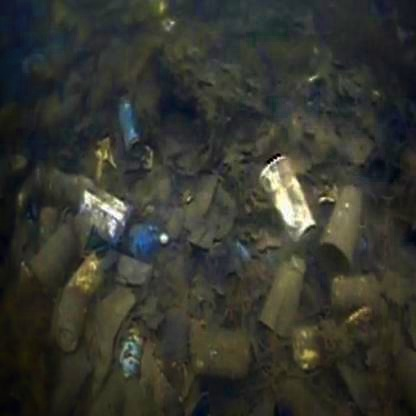can: (255, 144, 323, 246)
pbottle: (108, 76, 152, 155)
